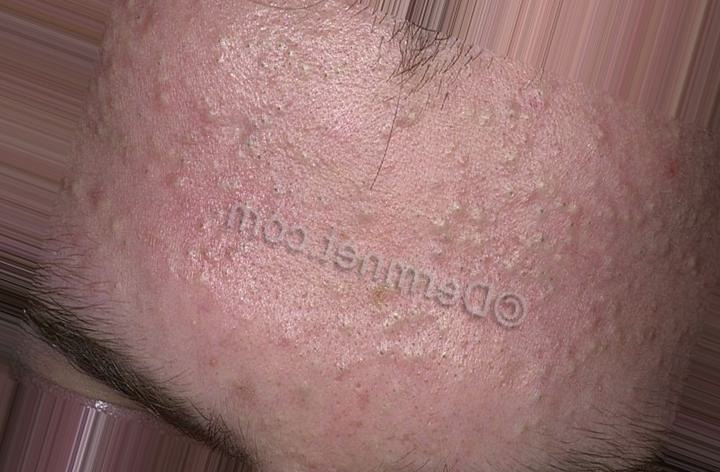Acne: (88, 17, 669, 385)
